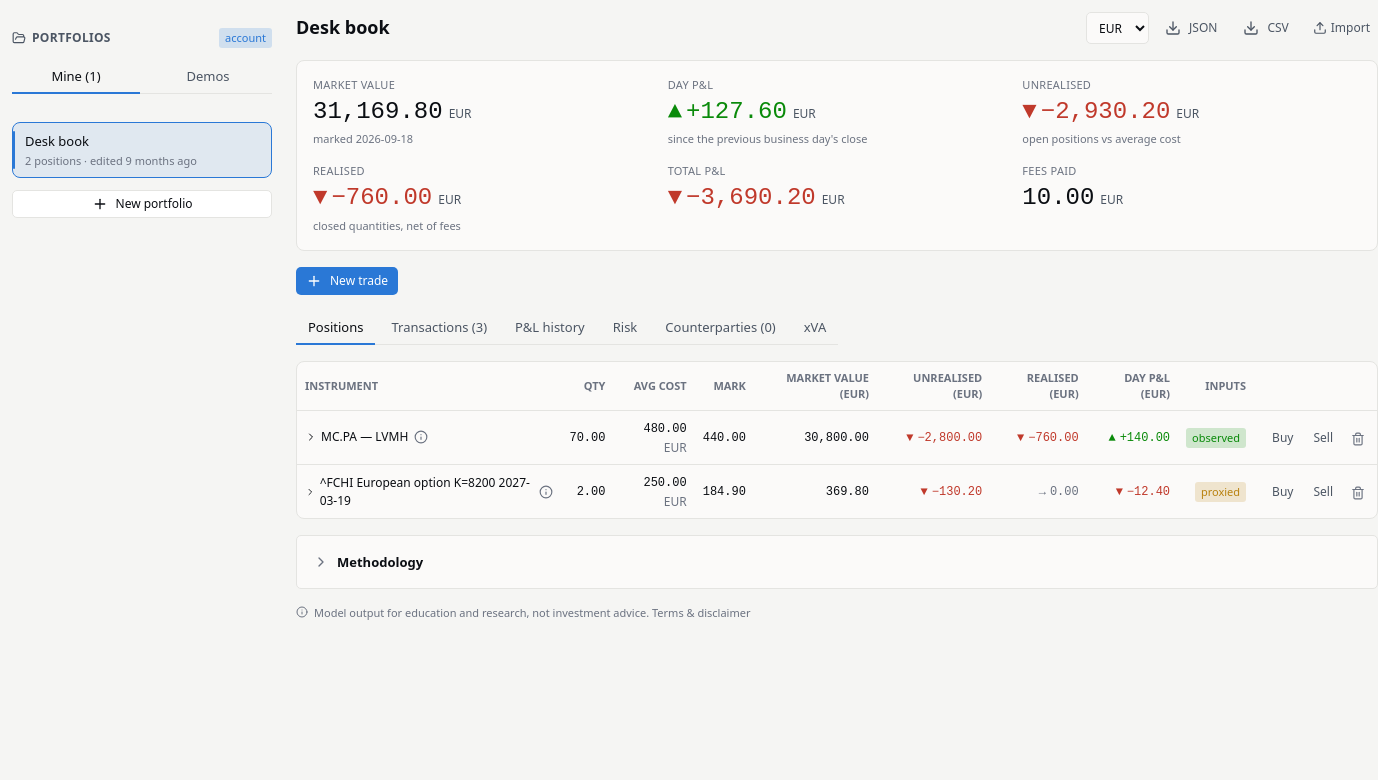
Test: portfolio page › prefills a sale that closes the position from its row
Click the button "Sell" in the row of "70.00" at (1323, 438), box left=1303, top=424, right=1343, bottom=452
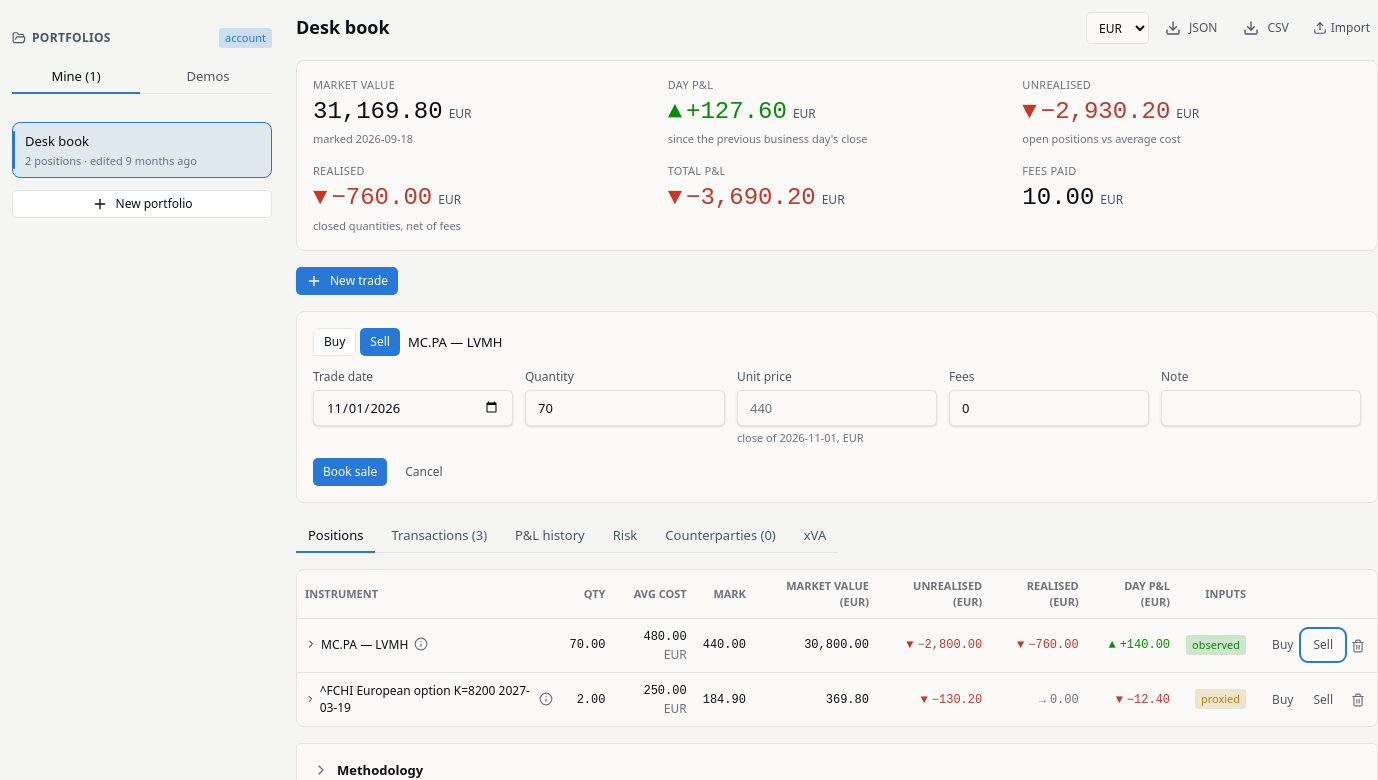
Result: the button "Book sale" is shown at left=313, top=458, right=387, bottom=486
Result: the number field labelled "Quantity" holds "70" at left=525, top=390, right=725, bottom=426
